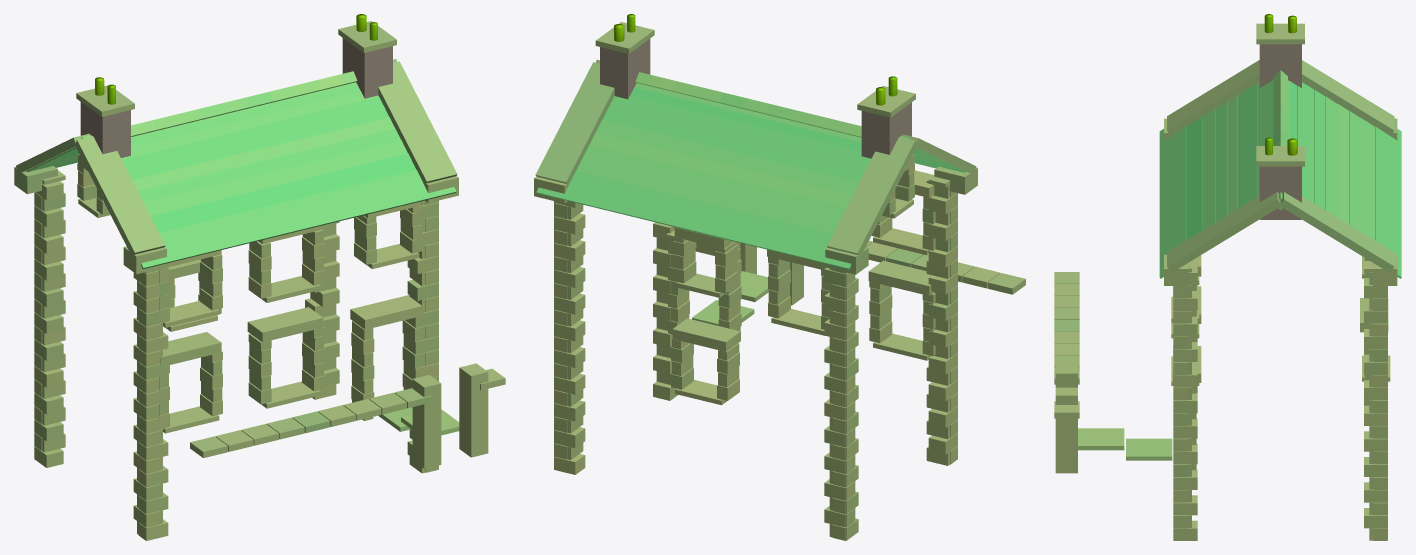
The model's file is SM_Bld_117_Stone.glb.
3 views of the same model, side by side, from view 1: azimuth 30°, elevation 25°; view 2: azimuth 150°, elevation 25°; view 3: azimuth 270°, elevation 25° (orthographic). The views are drawn at different scales.
Parts seen in each view (by area): view 1: SM_Bld_117_Stone; view 2: SM_Bld_117_Stone; view 3: SM_Bld_117_Stone.
Part boxes in pixels (x1=…): SM_Bld_117_Stone: x1=14, y1=14, x2=505, y2=540; SM_Bld_117_Stone: x1=534, y1=14, x2=1025, y2=540; SM_Bld_117_Stone: x1=1054, y1=14, x2=1401, y2=540.
Size of the model in its own units: 7.57 by 9.29 by 7.4.
